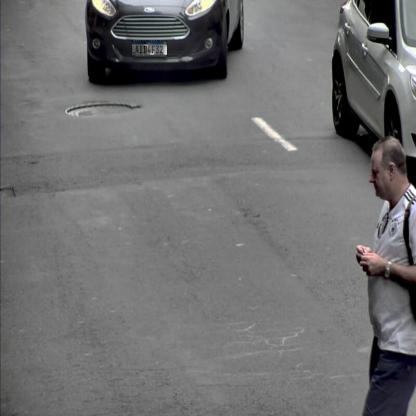PlacaM: (132, 40, 168, 56)
